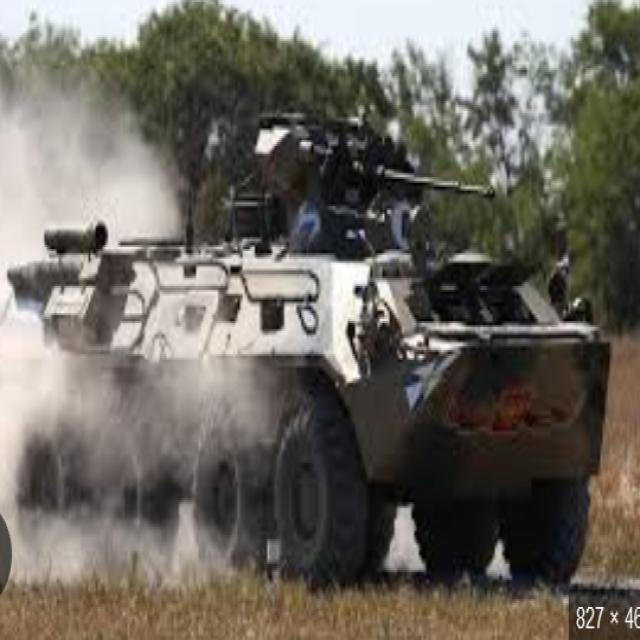MIL_APC: (0, 146, 627, 630)
